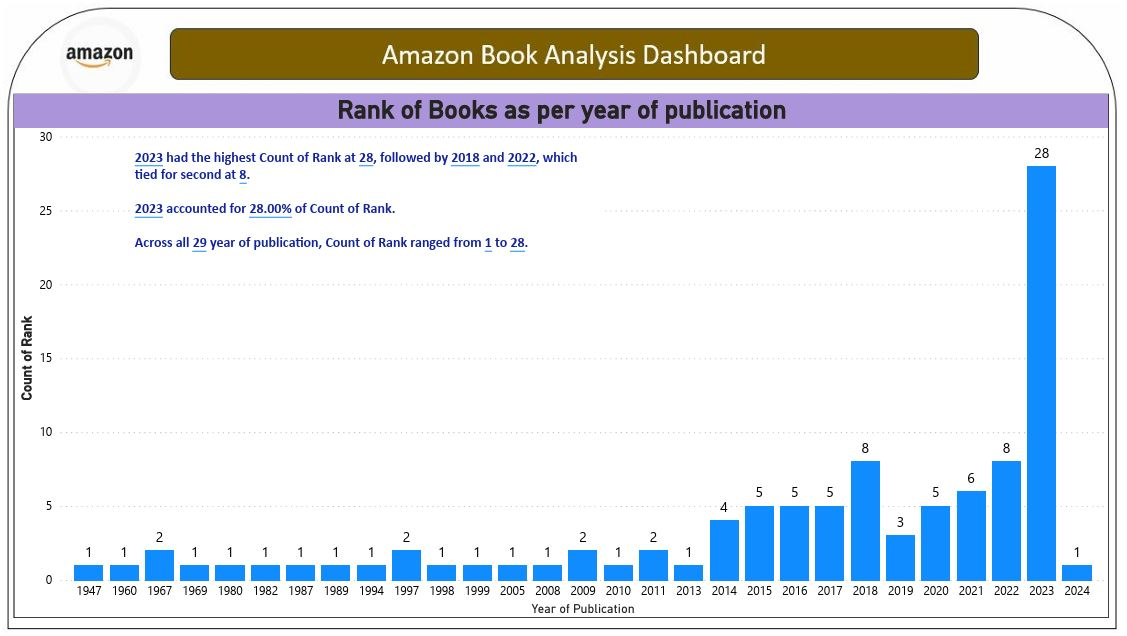

What the dashboard file says about the page in this screenshot:
{"tool":"powerbi","page":{"name":"Rank VS Year of Publication","canvas":[1280,720],"ordinal":0},"visuals":[{"type":"columnChart","title":"Rank of Books as per year of publication","fields":{"Category":["Data 2 Top-100 Trending Books.year of publication"],"Y":["CountNonNull(Data 2 Top-100 Trending Books.Rank)"]},"box":[10.7,102.6,1255.3,601.6],"z":0},{"type":"textbox","box":[145.4,160.7,538.9,151.6],"z":1000}]}

Visuals, with their boxes in screenshot pixels (x1, y1, x2, y2), scaled from the page's 1280x720 canvas onto the 1127x636 screenshot:
"Rank of Books as per year of publication" columnChart: locate(9, 91, 1115, 622)
textbox: locate(128, 142, 603, 276)
